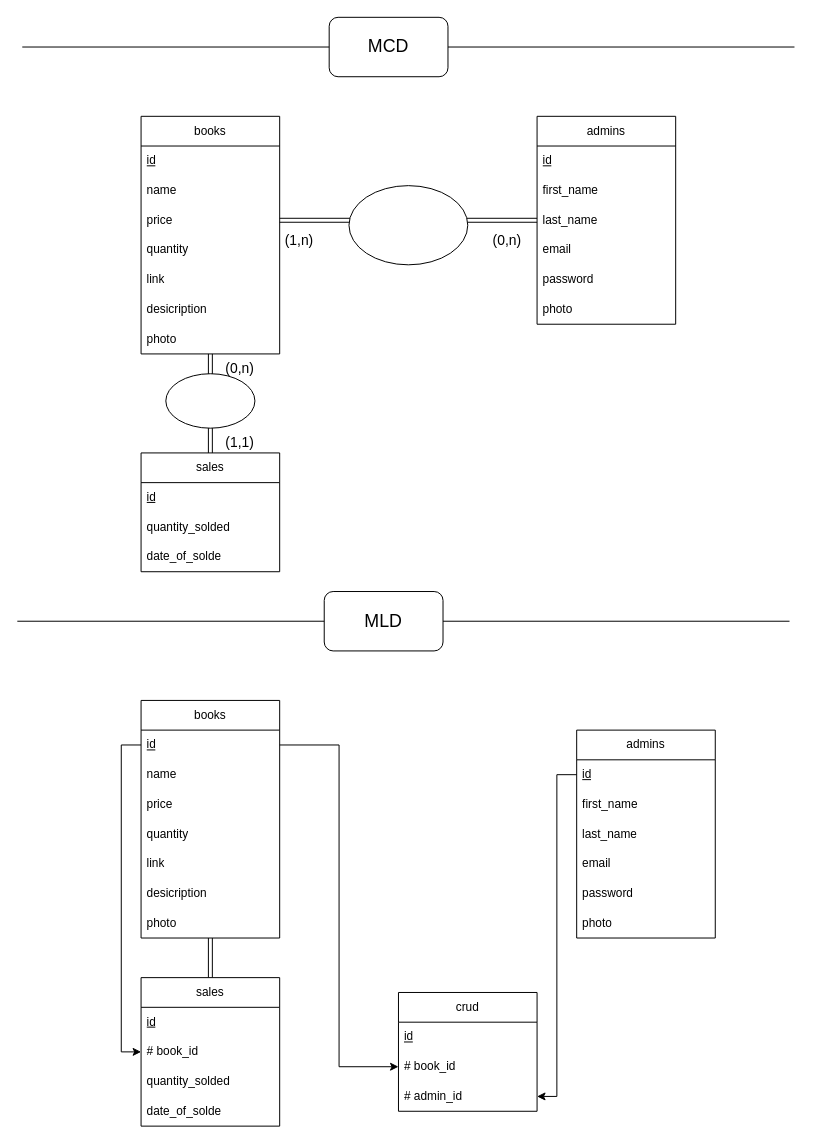
The diagram is 813 pixels wide and 1143 high, and some of its shapes have lost their labels. The shapes that lost their labels are listed below. From the top down, each one's centre as x and y in pixels, then its label:
[408,225]: manage
[210,400]: Etre
